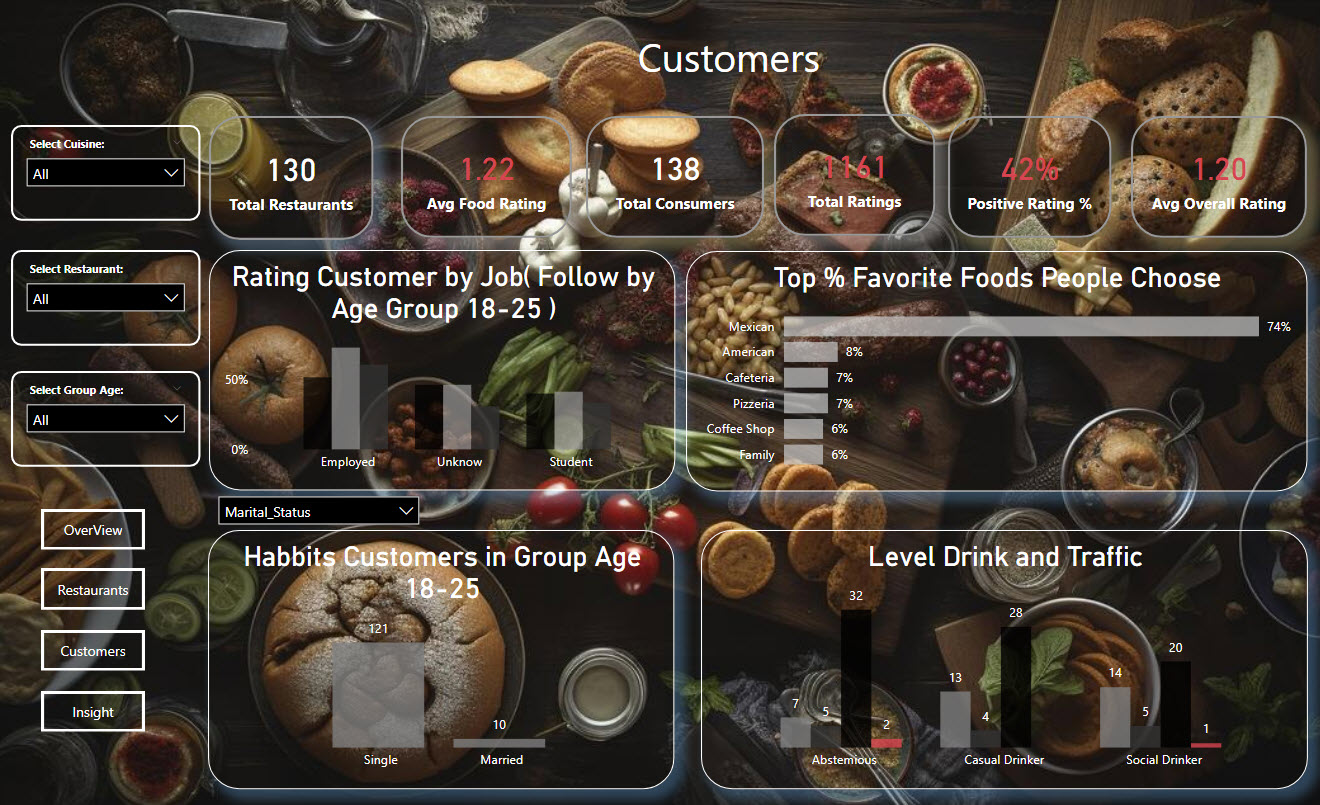

This screenshot's page, from the dashboard's own definition file:
{"tool":"powerbi","page":{"name":"Customers","canvas":[1280,780],"ordinal":2},"visuals":[{"type":"actionButton","title":"OverView","box":[43.2,492.8,99.9,39.4],"z":0},{"type":"card","title":"Total Revenue","fields":{"Values":["Measure.Total Restaurants"]},"box":[204.3,115.7,157.6,118.7],"z":1000},{"type":"card","title":"Total Revenue","fields":{"Values":["Measure.Avg Food Rating"]},"box":[389.1,115.7,164.4,116.7],"z":2000},{"type":"card","title":"Total Revenue","fields":{"Values":["Measure.Total Consumers"]},"box":[567.1,115.7,171.2,116.7],"z":3000},{"type":"card","title":"Total Revenue","fields":{"Values":["Measure.Total Ratings"]},"box":[747,113.8,154.7,116.7],"z":4000},{"type":"card","title":"Total Revenue","fields":{"Values":["Measure.Positive Rating %"]},"box":[914.3,115.7,157.1,117.1],"z":5000},{"type":"card","title":"Total Revenue","fields":{"Values":["Measure.Avg Overall Rating"]},"box":[1090.3,115.7,169.2,116.7],"z":6000},{"type":"textbox","box":[333.6,28.2,741.2,110.9],"z":7000},{"type":"lineClusteredColumnComboChart","title":"Rating Customer by Job( Follow by Age Group 18-25 )","fields":{"Y":["Measure.Positive Rating %","Measure.Positive Food Rating %","Measure.Positive Service Rating %"],"Category":["dim_consumers.Occupation"]},"box":[204.3,244.1,448.4,231.5],"z":8000},{"type":"barChart","title":"Top % Favorite Foods  People Choose","fields":{"Category":["dim_consumer_preferences.Preferred_Cuisine"],"Y":["Measure.Cuisine Lovers"]},"box":[662.8,245,596.5,230.5],"z":9000},{"type":"slicer","fields":{"Values":["dim_restaurant_cuisines.Cuisine"]},"box":[14.4,123.9,181.6,92.2],"z":10000},{"type":"slicer","fields":{"Values":["dim_restaurants.Name"]},"box":[14.4,244,181.6,92.2],"z":11000},{"type":"slicer","fields":{"Values":["dim_consumers.Age Group"]},"box":[14.4,360.2,181.6,92.2],"z":12000},{"type":"actionButton","title":"OverView","box":[43.2,549.5,99.9,40.3],"z":13000},{"type":"slicer","fields":{"Values":["Consumer.Consumer"]},"box":[203.3,470.8,213,56.4],"z":14000},{"type":"actionButton","title":"OverView","box":[43.2,609,99.9,39.4],"z":15000},{"type":"clusteredColumnChart","title":"Habbits Customers in Group Age 18-25","fields":{"Category":["dim_consumers.Marital_Status"],"Y":["Measure.Total Consumers"]},"box":[203.3,512.6,448.4,249],"z":16000},{"type":"clusteredColumnChart","title":"Level Drink and Traffic  ","fields":{"Category":["dim_consumers.Drink_Level"],"Y":["Measure.Total Consumers"],"Series":["dim_consumers.Transportation_Method"]},"box":[677,512.6,582.6,249],"z":17000},{"type":"actionButton","title":"OverView","box":[43.2,667.6,99.9,39.4],"z":18000}]}

Visuals, with their boxes in screenshot pixels (x1, y1, x2, y2), scaled from the page's 1280x780 canvas onto the 1320x805 screenshot:
"OverView" actionButton: <region>45, 509, 148, 549</region>
"Total Revenue" card: <region>211, 119, 373, 242</region>
"Total Revenue" card: <region>401, 119, 571, 240</region>
"Total Revenue" card: <region>585, 119, 761, 240</region>
"Total Revenue" card: <region>770, 117, 930, 238</region>
"Total Revenue" card: <region>943, 119, 1105, 240</region>
"Total Revenue" card: <region>1124, 119, 1299, 240</region>
textbox: <region>344, 29, 1108, 144</region>
"Rating Customer by Job( Follow by Age Group 18-25 )" lineClusteredColumnComboChart: <region>211, 252, 673, 491</region>
"Top % Favorite Foods  People Choose" barChart: <region>684, 253, 1299, 491</region>
slicer - dim_restaurant_cuisines.Cuisine: <region>15, 128, 202, 223</region>
slicer - dim_restaurants.Name: <region>15, 252, 202, 347</region>
slicer - dim_consumers.Age Group: <region>15, 372, 202, 467</region>
"OverView" actionButton: <region>45, 567, 148, 609</region>
slicer - Consumer.Consumer: <region>210, 486, 429, 544</region>
"OverView" actionButton: <region>45, 629, 148, 669</region>
"Habbits Customers in Group Age 18-25" clusteredColumnChart: <region>210, 529, 672, 786</region>
"Level Drink and Traffic  " clusteredColumnChart: <region>698, 529, 1299, 786</region>
"OverView" actionButton: <region>45, 689, 148, 730</region>
